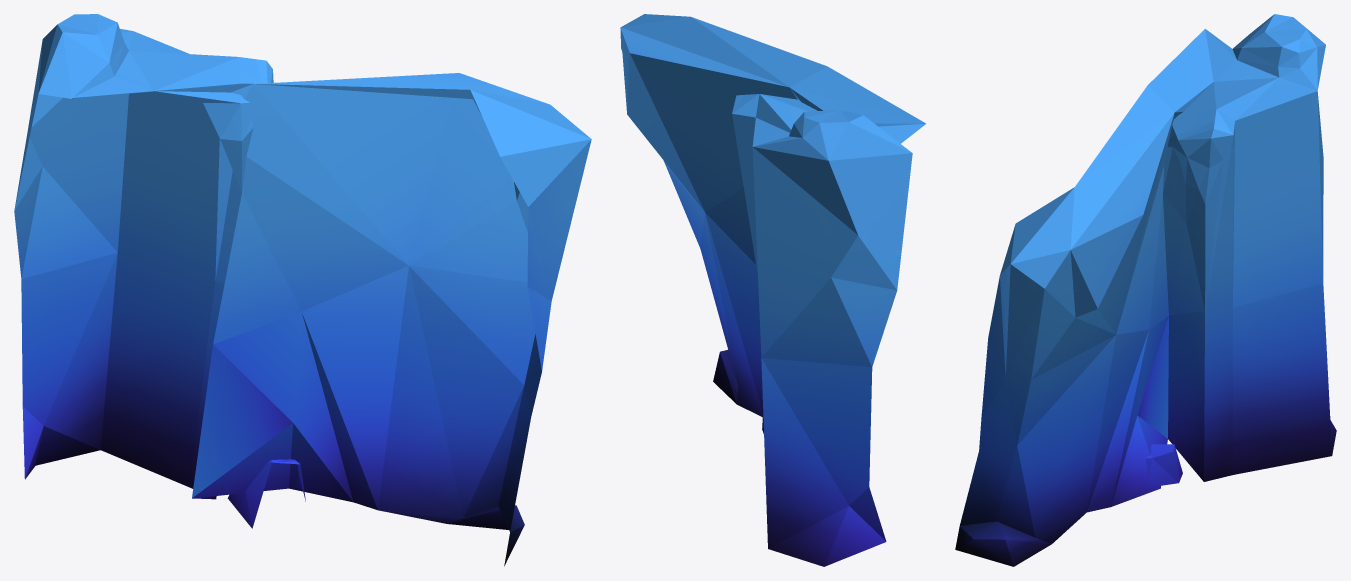
Rendered from Terrain_Mountain_6.fbx.
3 renders of one model, left to right at view 1: azimuth 30°, elevation 25°; view 2: azimuth 150°, elevation 25°; view 3: azimuth 270°, elevation 25°, orthographic. The views are drawn at different scales.
Parts seen in each view (by area): view 1: terrain_mountain_307_2; view 2: terrain_mountain_307_2; view 3: terrain_mountain_307_2.
Boxes of the visible parts, bbox=[...] form: terrain_mountain_307_2: bbox=[14, 14, 591, 566]; terrain_mountain_307_2: bbox=[620, 14, 925, 566]; terrain_mountain_307_2: bbox=[955, 14, 1336, 566].
Bounding box in the file's own units: 2470 × 2572 × 2115.
Materials: 1 (1 with a texture image).
